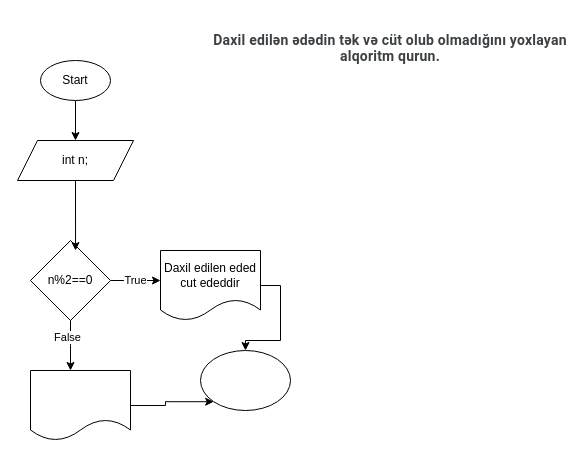
Some shapes in this 588 by 458 pixel diagram are drawn without their labels. Each missing label, with the centre of its shape:
"daxil edilen eded tek ededdir" belongs at (x=80, y=405).
"End" belongs at (x=245, y=380).
